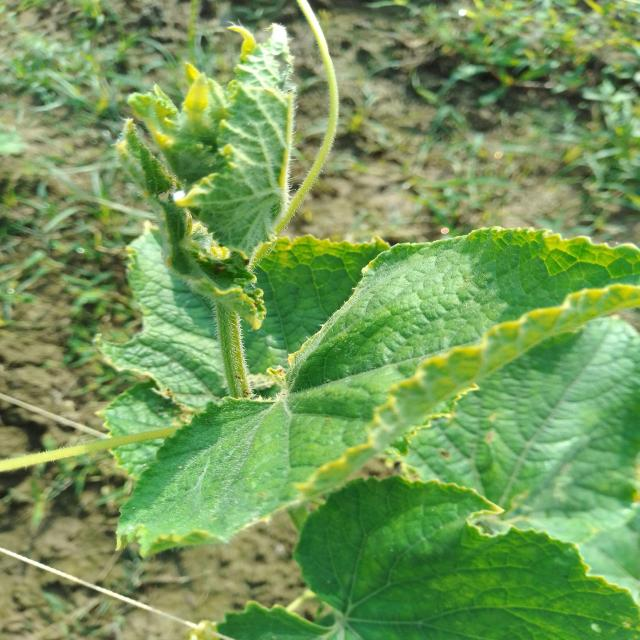cucumber_healthy: (111, 221, 640, 549), (215, 474, 640, 640), (109, 22, 308, 244), (413, 317, 640, 507)
